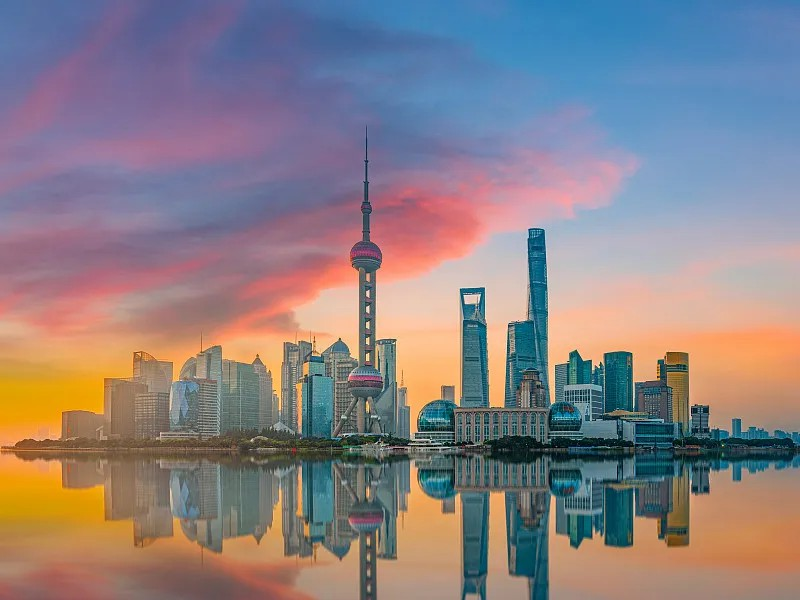Oriental: (334, 124, 383, 435)
